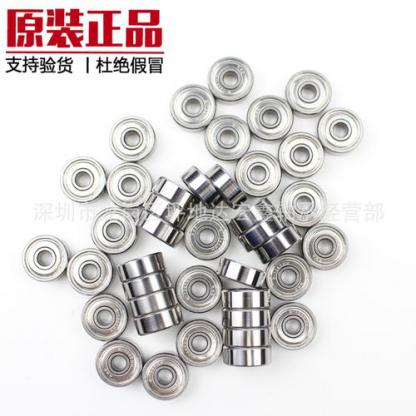FOD: (283, 61, 335, 120), (182, 208, 232, 261), (269, 300, 319, 352), (20, 231, 69, 284), (205, 53, 257, 102), (91, 339, 144, 387), (138, 353, 191, 401), (314, 106, 364, 156), (174, 318, 224, 368), (78, 292, 128, 341), (89, 204, 137, 255), (58, 155, 107, 204), (65, 248, 115, 296), (108, 115, 157, 163), (278, 132, 327, 180), (280, 180, 329, 228), (300, 223, 348, 272), (173, 264, 220, 314), (168, 84, 216, 132), (234, 150, 282, 198), (204, 114, 253, 161), (266, 253, 314, 300), (130, 207, 184, 248), (249, 94, 296, 141), (107, 162, 152, 210), (203, 160, 248, 207), (240, 212, 287, 253), (182, 163, 223, 209), (250, 228, 299, 265), (152, 176, 200, 211), (218, 258, 268, 289), (144, 197, 192, 228), (220, 346, 275, 369), (224, 328, 274, 348)
